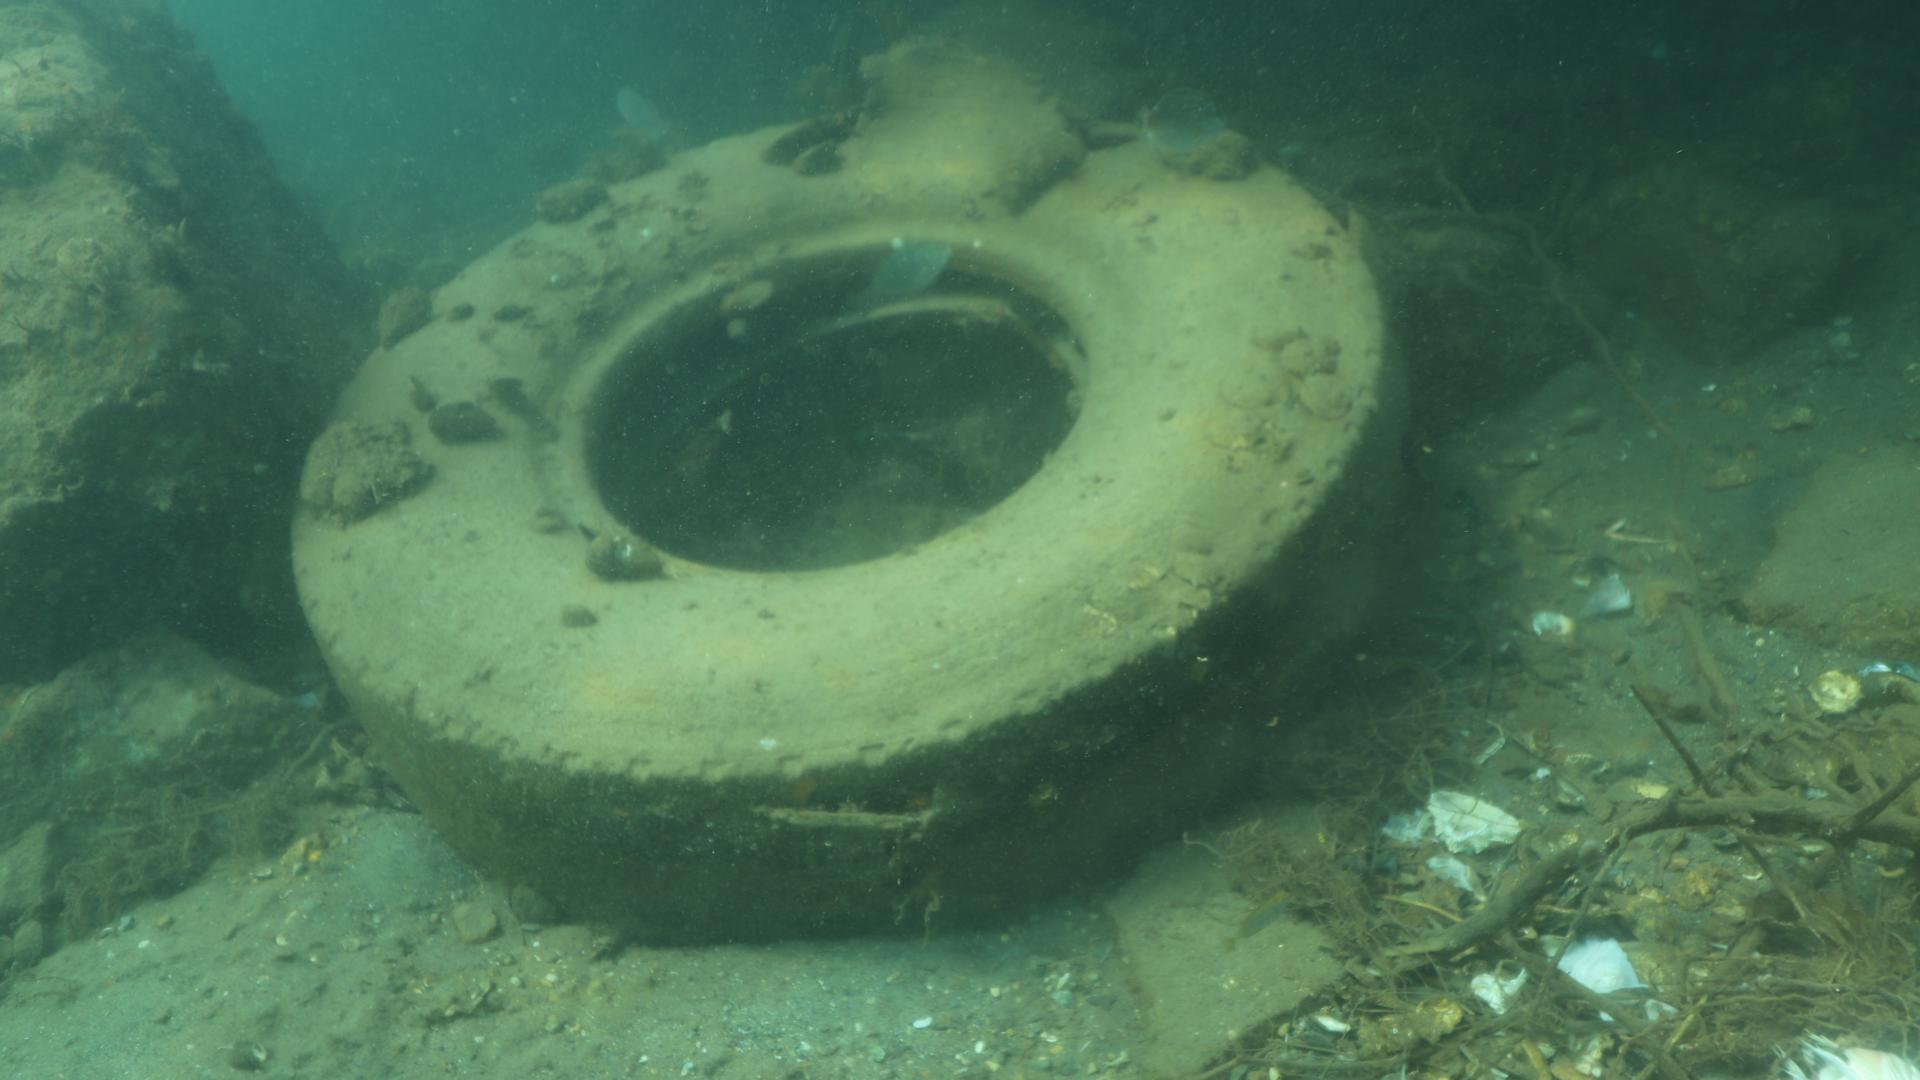tire: (290, 112, 1406, 945)
